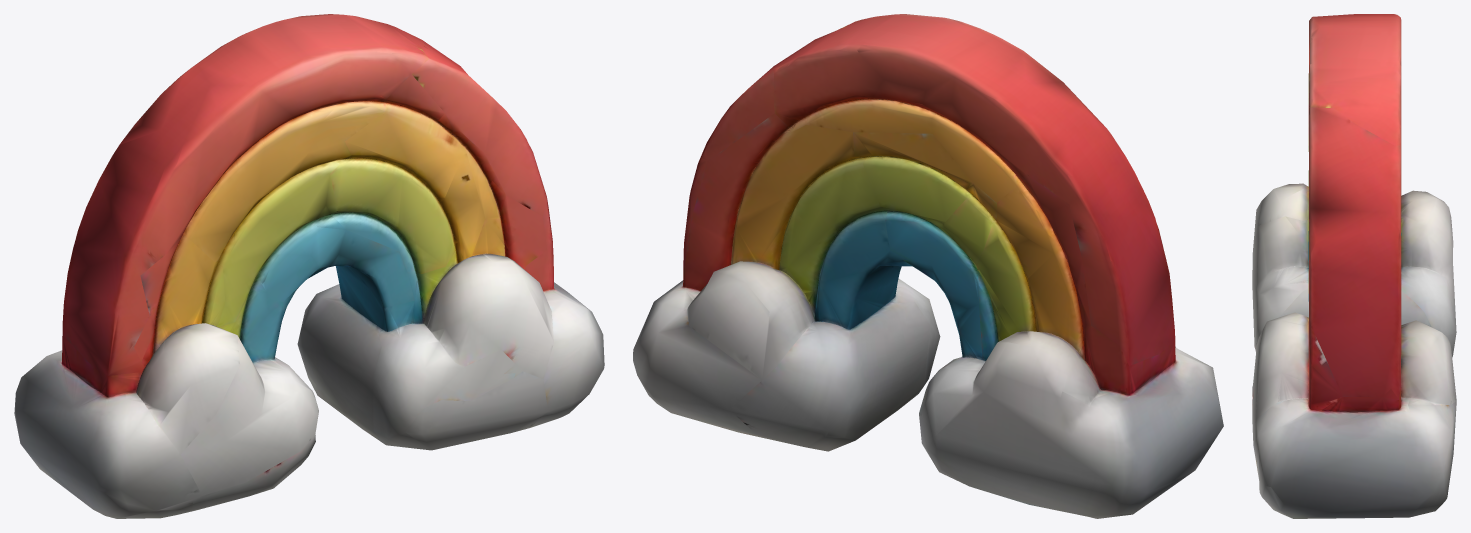
Rendered from rainbow_pbr.glb.
The picture shows the model from 3 angles, left to right: view 1: azimuth 30°, elevation 25°; view 2: azimuth 150°, elevation 25°; view 3: azimuth 270°, elevation 25°; orthographic projection. The views are drawn at different scales.
Visible parts, largest first — view 1: model; view 2: model; view 3: model.
Part boxes in pixels (<box>): model: <box>14,14,604,518</box>; model: <box>633,14,1223,518</box>; model: <box>1252,14,1456,518</box>.
Bounding box in the file's own units: 1.86 × 1.45 × 0.6885.
1 material, 1 textured.
